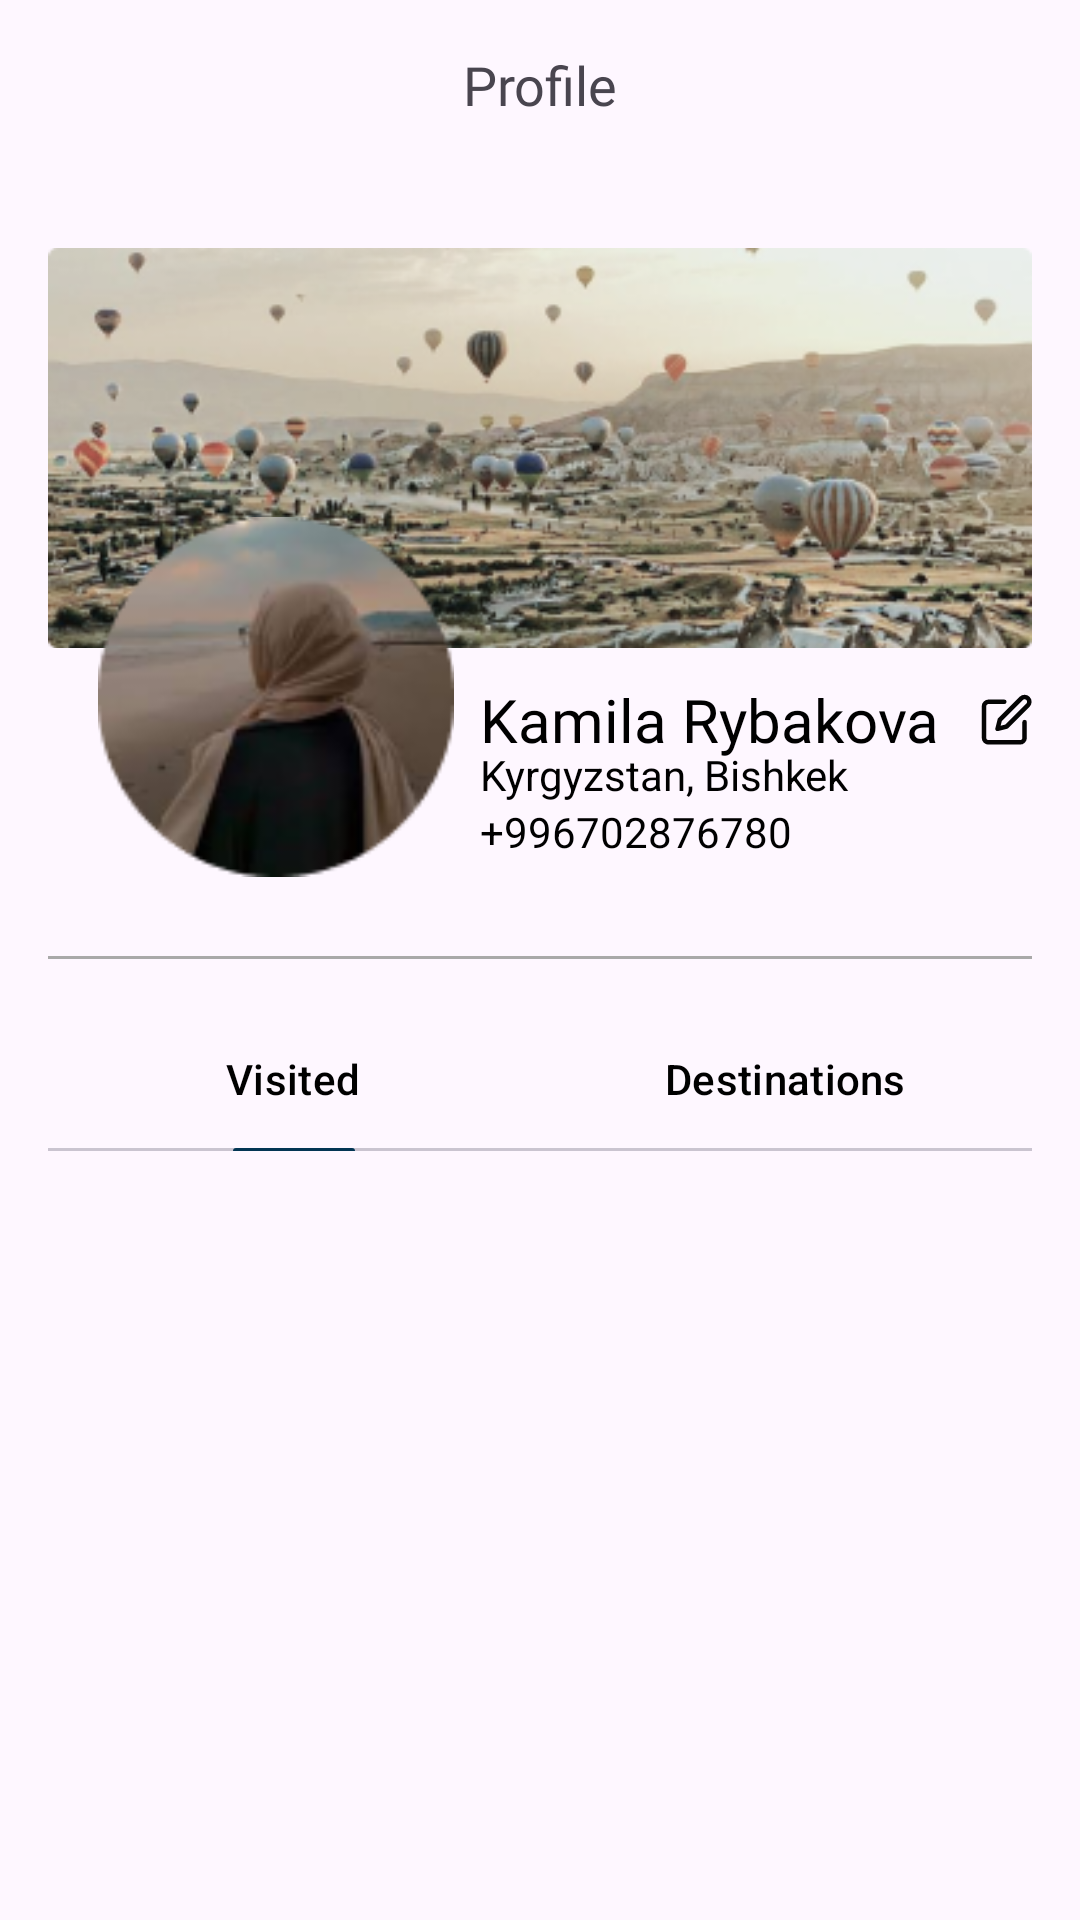

Icons on this 1080 × 1920 Android screen, each with the point to tap as (x,y):
edit profile: (1006,719)
profile photo: (276,697)
